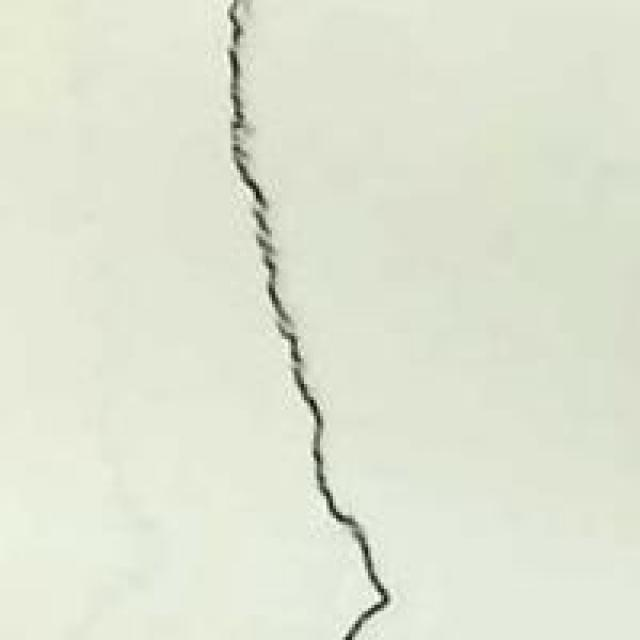crack: (170, 0, 393, 637)
